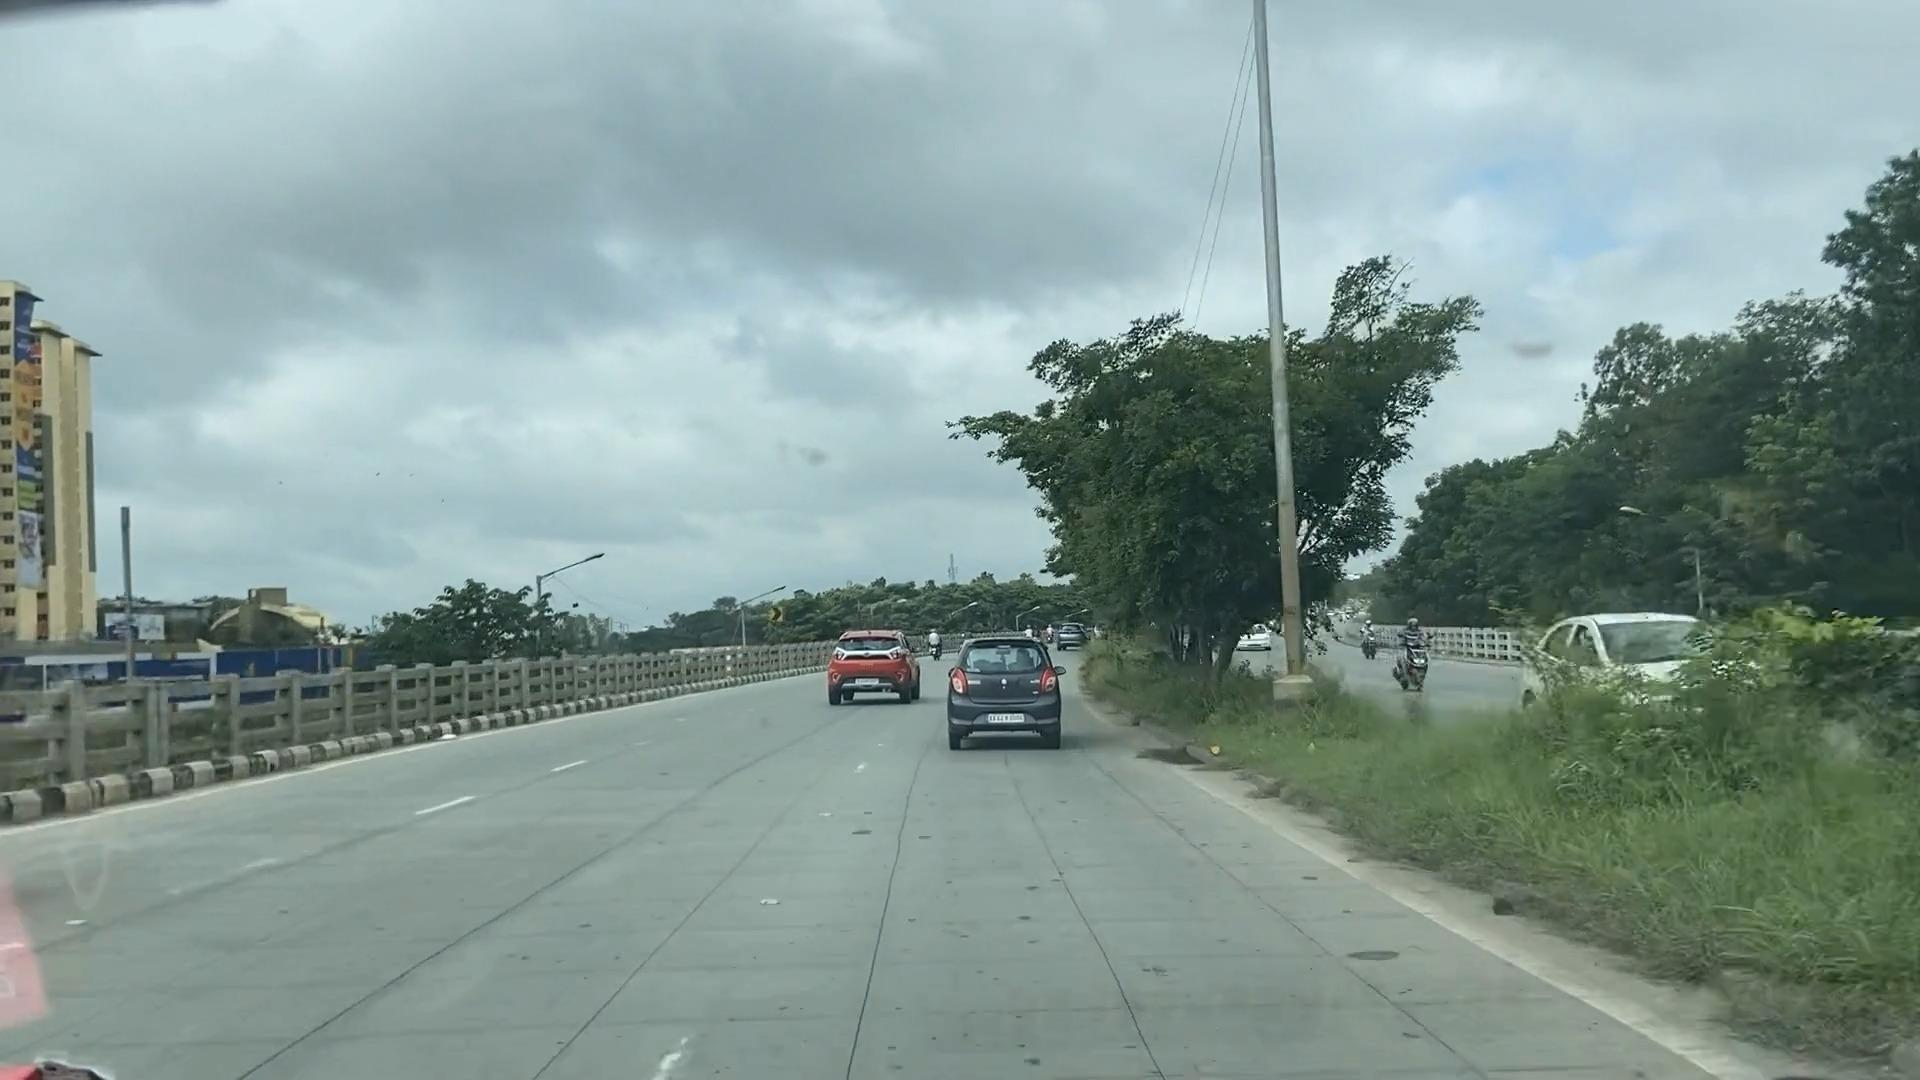LMV: (952, 638, 1051, 752), (836, 632, 919, 709)
